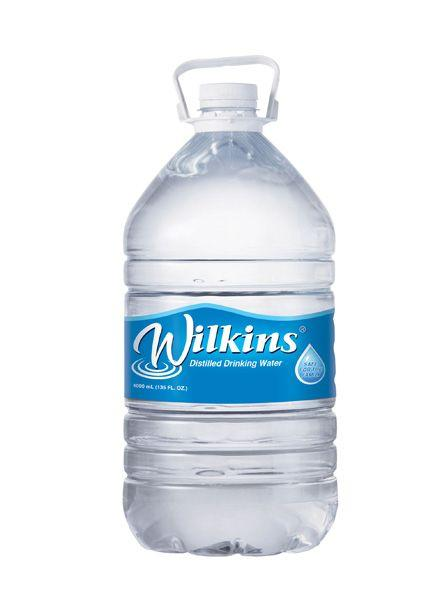HDPE: (172, 54, 280, 132)
PETE: (123, 132, 338, 556)
PP: (124, 297, 336, 404)
